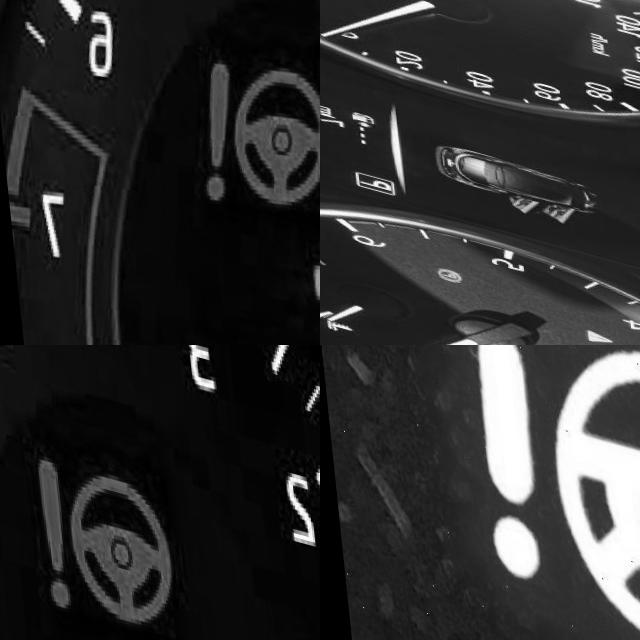Electronic Power Steering: (30, 440, 178, 625), (180, 28, 320, 219), (512, 340, 542, 345)
Electronic Power Steering Warning: (467, 345, 640, 640)
Seat Belt: (571, 317, 606, 343)
